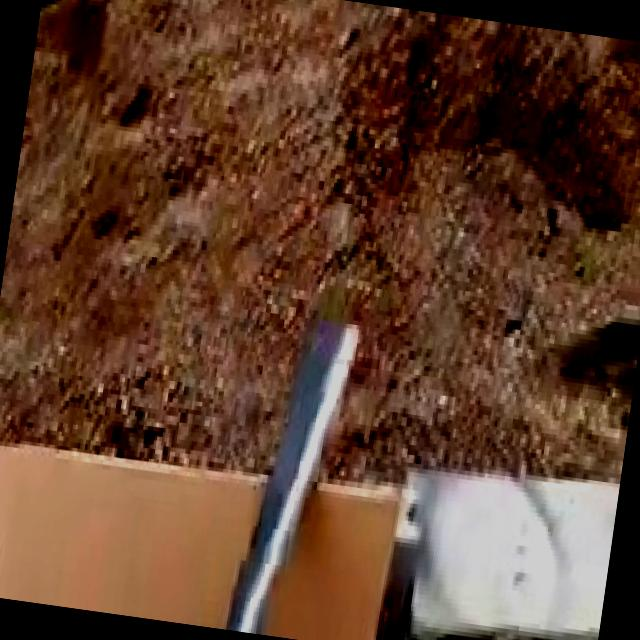eto: (229, 311, 358, 634)
